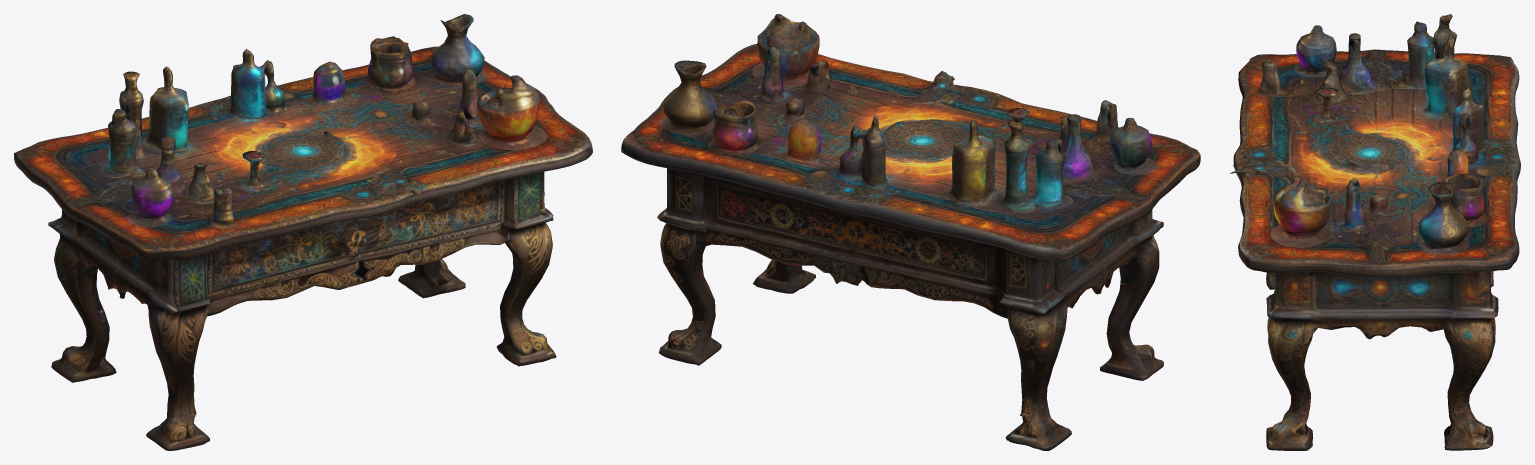
File: ultra_detailed_decora_0502101526.fbx
3 renders of one model, left to right at view 1: azimuth 30°, elevation 25°; view 2: azimuth 150°, elevation 25°; view 3: azimuth 270°, elevation 25°, orthographic. The views are drawn at different scales.
Visible parts, largest first — view 1: Mesh_0; view 2: Mesh_0; view 3: Mesh_0.
Boxes of the visible parts, left/top/right/bottom form: Mesh_0: left=14, top=14, right=592, bottom=450; Mesh_0: left=621, top=14, right=1200, bottom=450; Mesh_0: left=1230, top=14, right=1520, bottom=450.
Size of the model in its own units: 200 by 120 by 113.
1 material, 1 textured.
